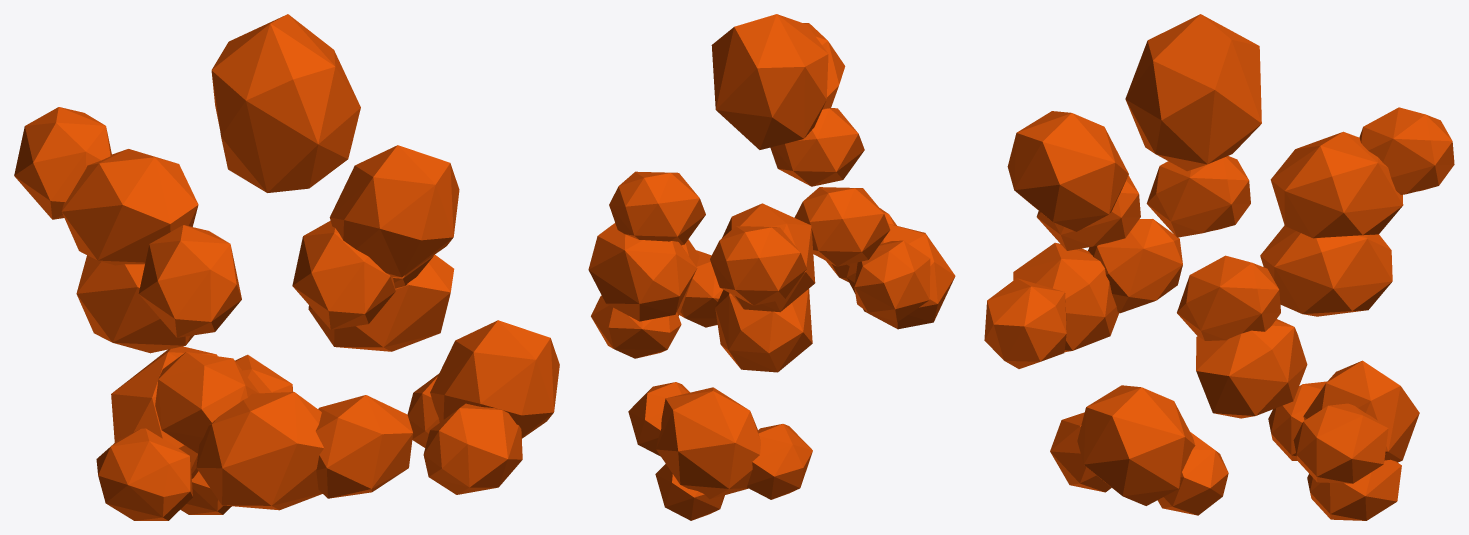
Rendered from tree-autumn-leaves-037.glb.
The picture shows the model from 3 angles, left to right: view 1: azimuth 30°, elevation 25°; view 2: azimuth 150°, elevation 25°; view 3: azimuth 270°, elevation 25°; orthographic projection. The views are drawn at different scales.
Visible parts, largest first — view 1: Sphere.002_378; view 2: Sphere.002_378; view 3: Sphere.002_378.
Boxes of the visible parts, <box> form: Sphere.002_378: <box>14,14,559,520</box>; Sphere.002_378: <box>588,14,955,520</box>; Sphere.002_378: <box>984,14,1454,520</box>.
Bounding box in the file's own units: 1.08 × 1.44 × 1.23.
